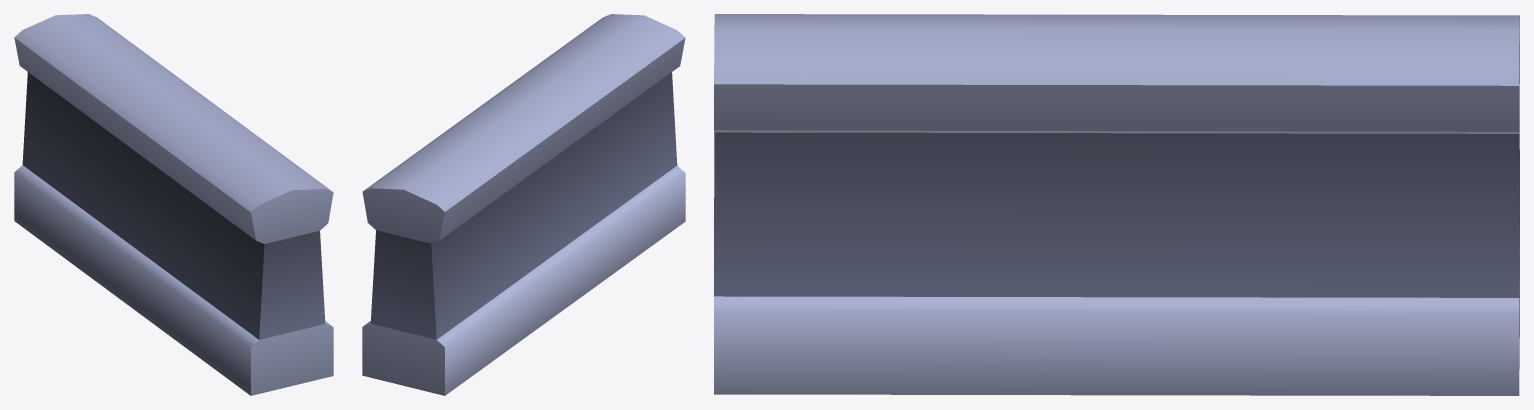
Rendered from stone-wall.017_lev1.glb.
3 views of the same model, side by side, from view 1: azimuth 30°, elevation 25°; view 2: azimuth 150°, elevation 25°; view 3: azimuth 270°, elevation 25° (orthographic). The views are drawn at different scales.
Parts seen in each view (by area): view 1: stone-wall.017_lev1; view 2: stone-wall.017_lev1; view 3: stone-wall.017_lev1.
Boxes of the visible parts, x1,y1,x2,y2 form: stone-wall.017_lev1: (14,14,333,395); stone-wall.017_lev1: (362,14,685,395); stone-wall.017_lev1: (714,14,1519,395).
Bounding box in the file's own units: 0.4088 × 0.9063 × 2.
Materials: 1 (1 with a texture image).
